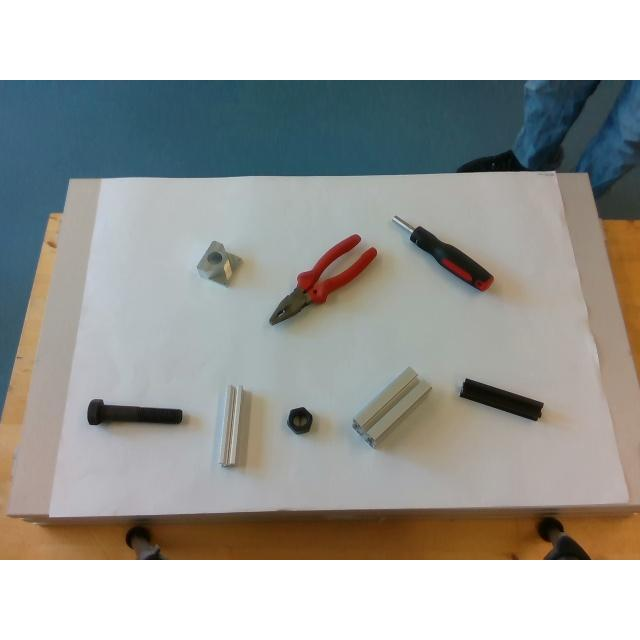F20_20_B: (458, 380, 542, 420)
F20_20_G: (219, 385, 243, 467)
M20: (288, 406, 312, 434)
M20_100: (87, 400, 181, 424)
S40_40_G: (354, 367, 431, 447)
